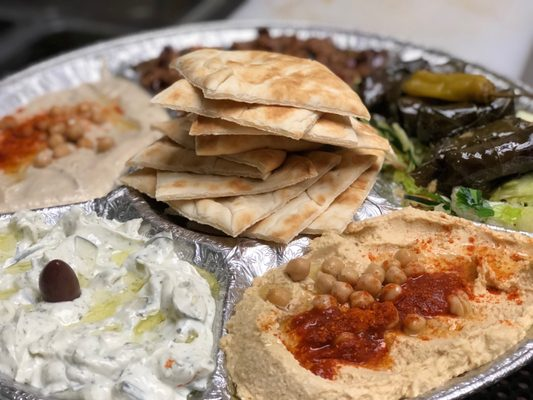soup: (124, 47, 394, 244)
